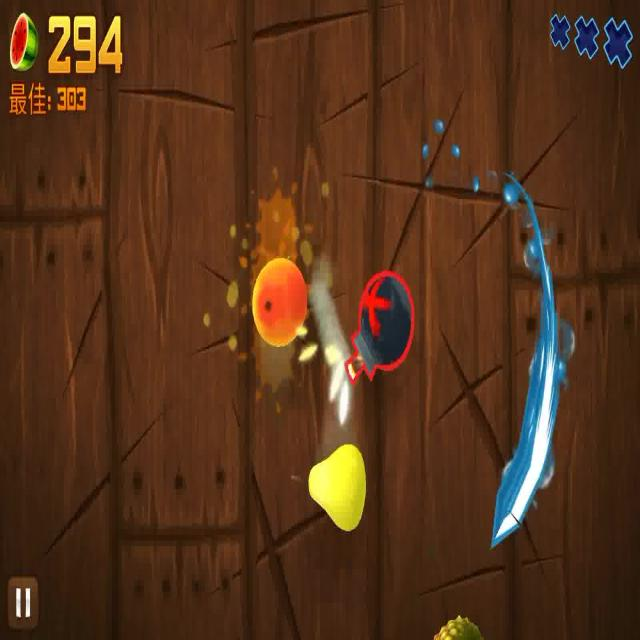bomb: (344, 262, 416, 388)
fruit: (307, 442, 366, 534), (252, 253, 308, 349), (429, 612, 479, 640)
